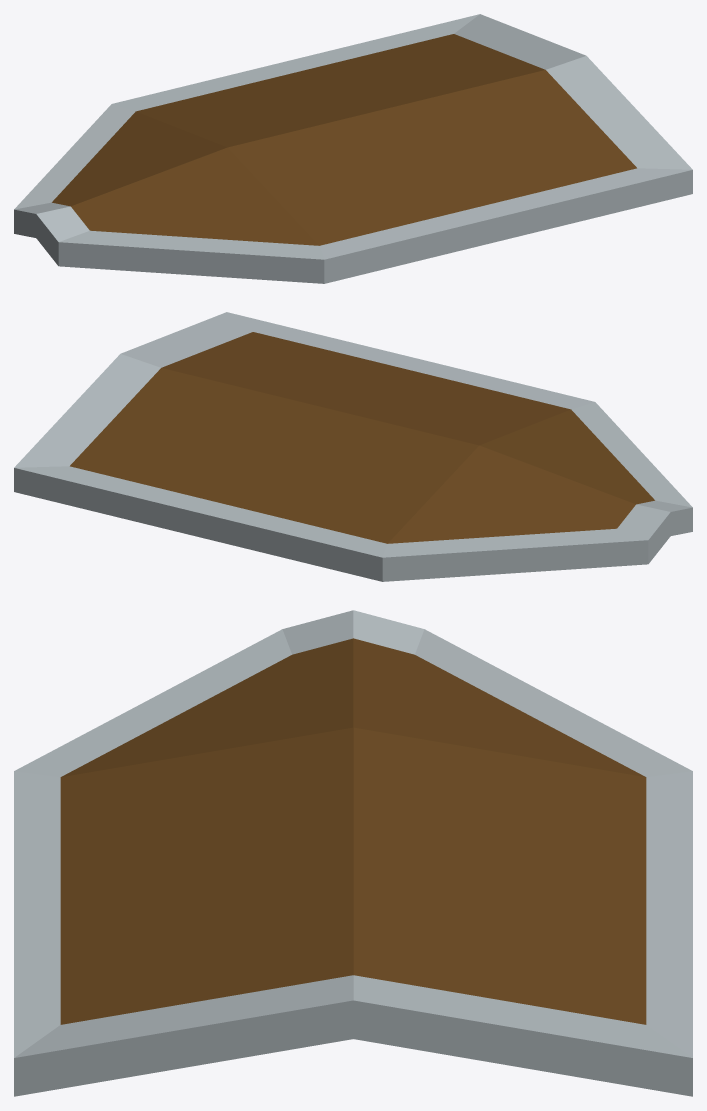
The model's file is Shield.fbx.
3 renders of one model, top to bottom at view 1: azimuth 30°, elevation 25°; view 2: azimuth 150°, elevation 25°; view 3: azimuth 270°, elevation 25°, orthographic. The views are drawn at different scales.
Parts seen in each view (by area): view 1: Shield; view 2: Shield; view 3: Shield.
Boxes of the visible parts, left/top/right/bottom form: Shield: left=14, top=14, right=692, bottom=283; Shield: left=14, top=312, right=692, bottom=581; Shield: left=14, top=610, right=692, bottom=1096.
Size of the model in its own units: 193 by 20.19 by 129.
